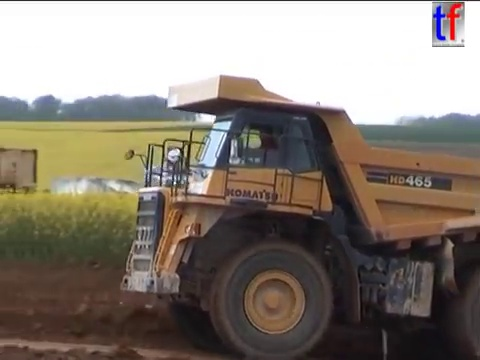truck: (116, 71, 480, 360)
